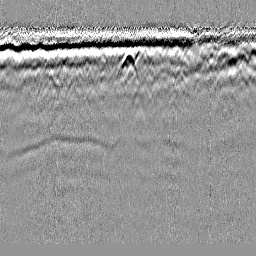cavity: (115, 47, 140, 82)
